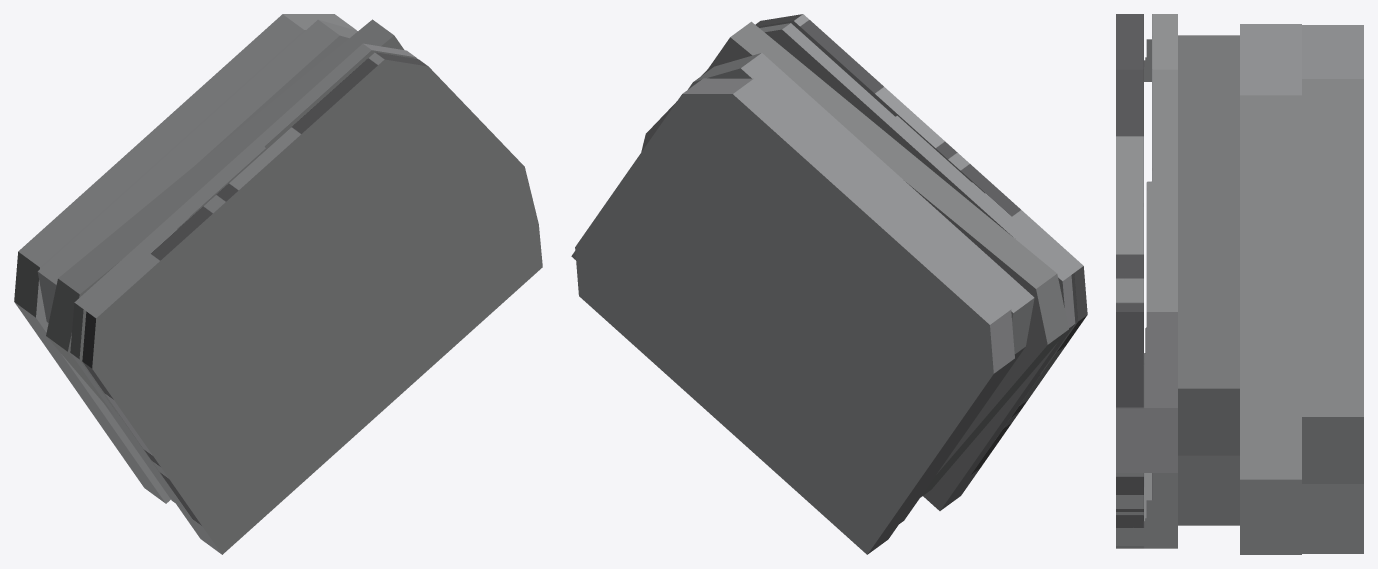
The picture shows the model from 3 angles, left to right: view 1: azimuth 30°, elevation 25°; view 2: azimuth 150°, elevation 25°; view 3: azimuth 270°, elevation 25°; orthographic projection. The views are drawn at different scales.
Size of the model in its own units: 0.4558 by 0.4246 by 0.1472.
